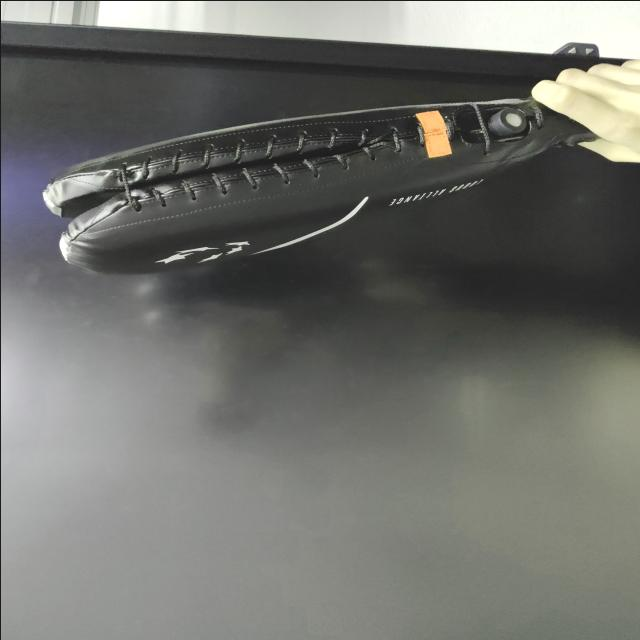paddle: (39, 92, 594, 276)
